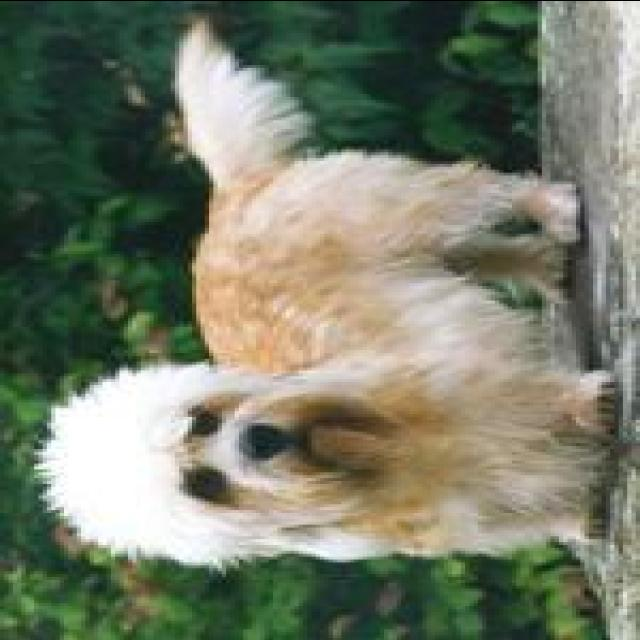dandie_dinmont: (34, 14, 610, 582)
